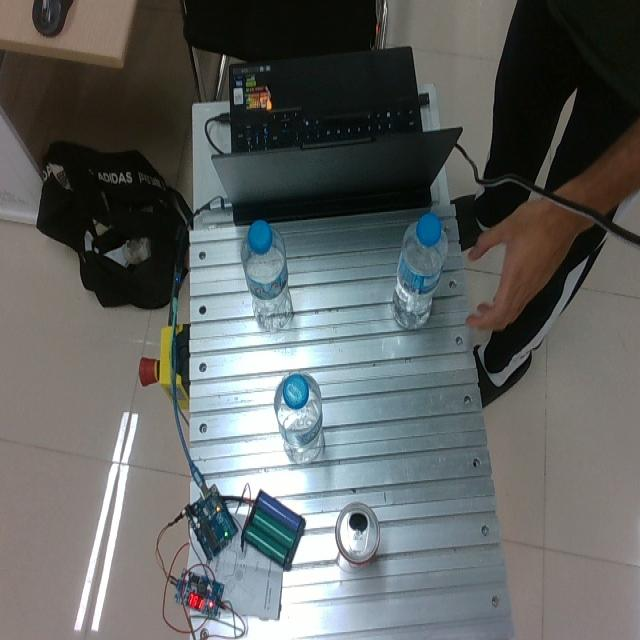coca: (334, 500, 380, 568)
lavie: (390, 212, 448, 331), (241, 220, 292, 332), (274, 371, 324, 464)
